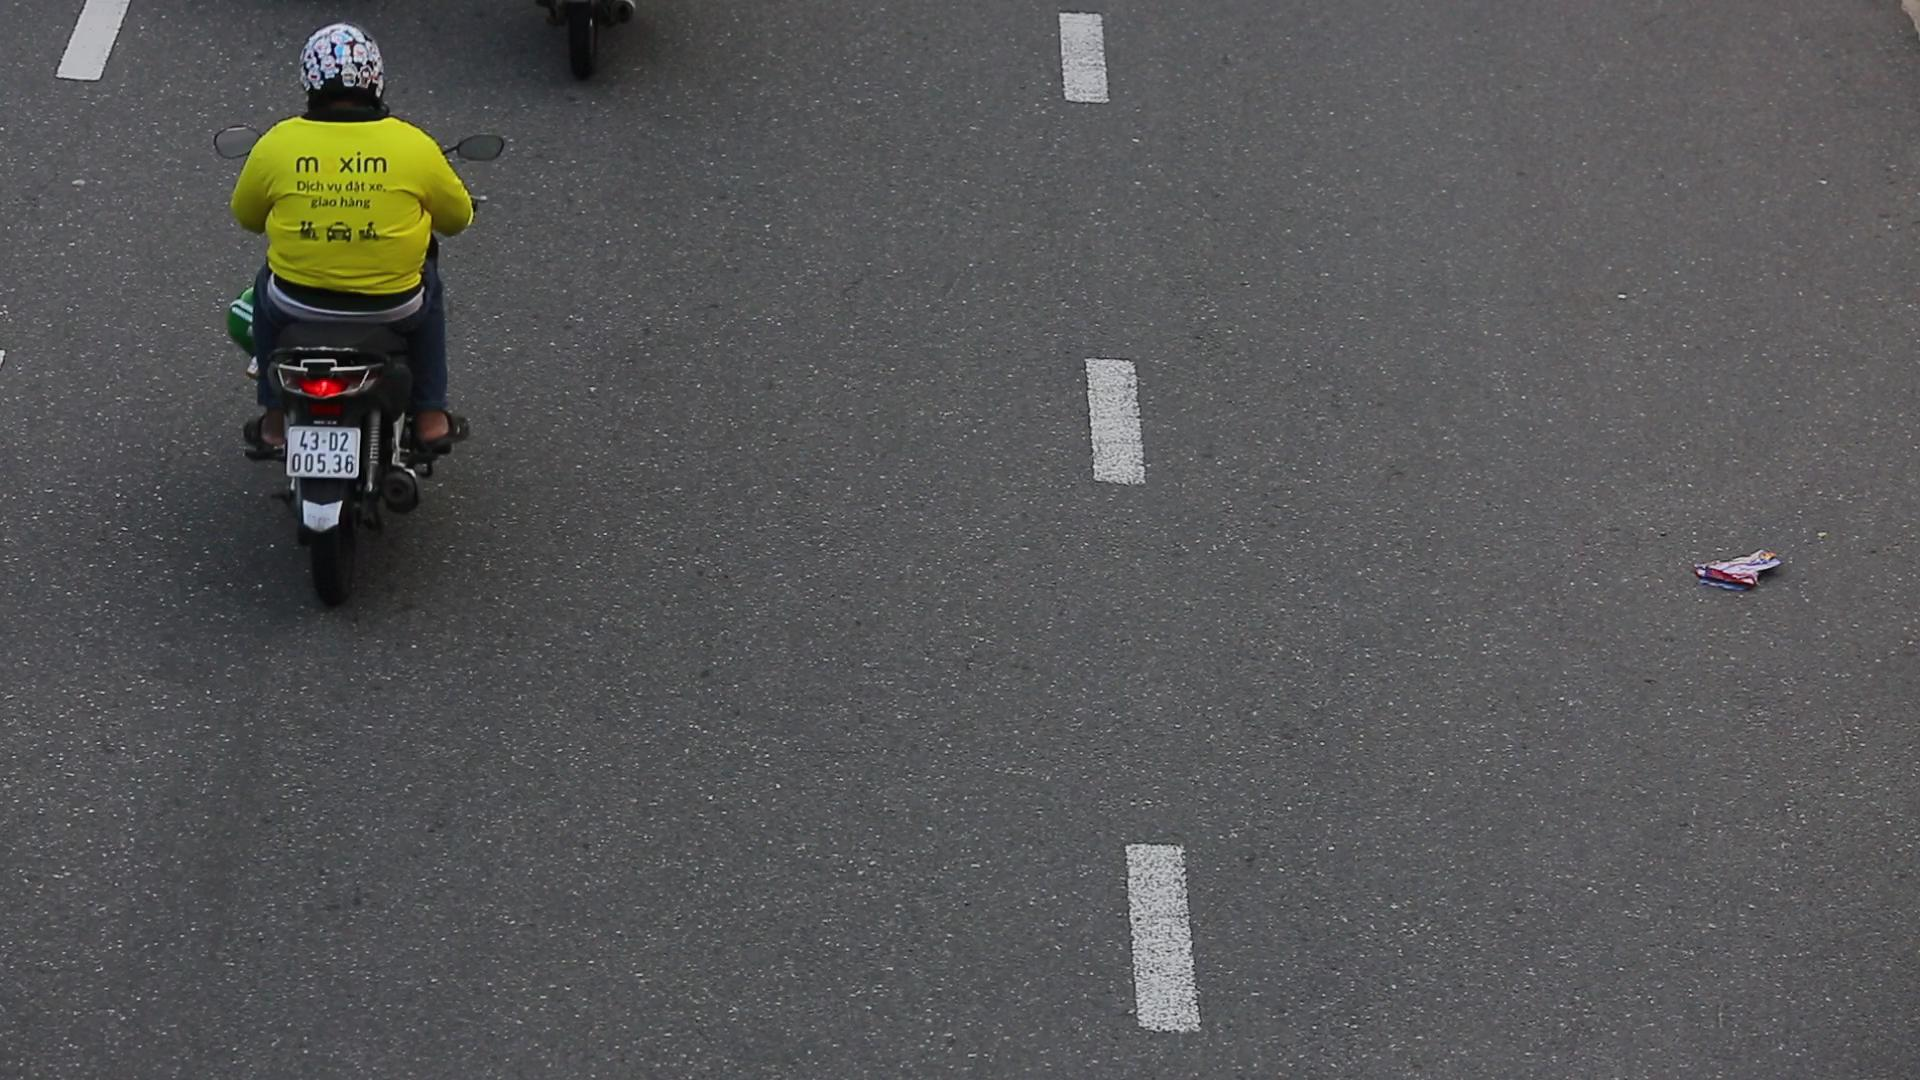motobike: (200, 4, 510, 626)
